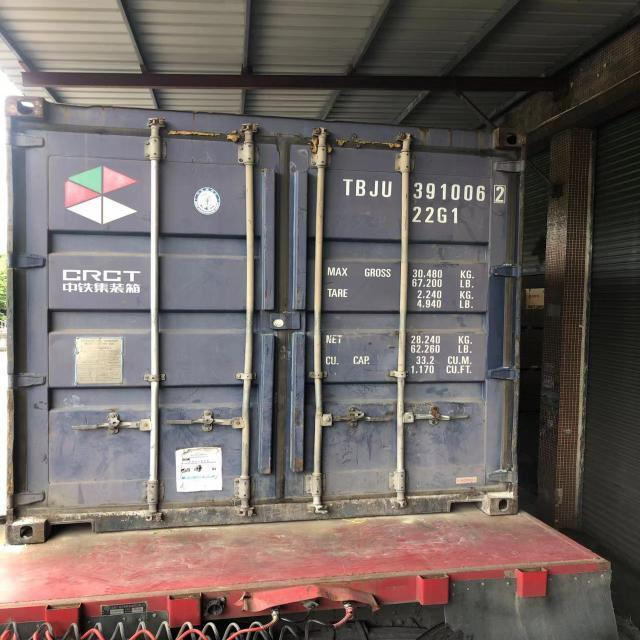ISO: (414, 204, 462, 224)
container_number: (344, 178, 502, 202)
